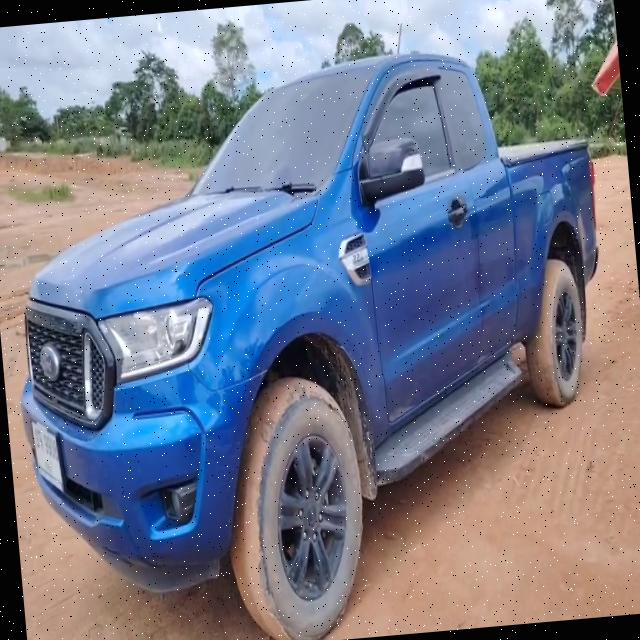Digit: (42, 430, 59, 462)
Licenseplate: (31, 419, 64, 494)
Provincename: (42, 458, 52, 469)
Thaichar: (33, 424, 45, 452)
